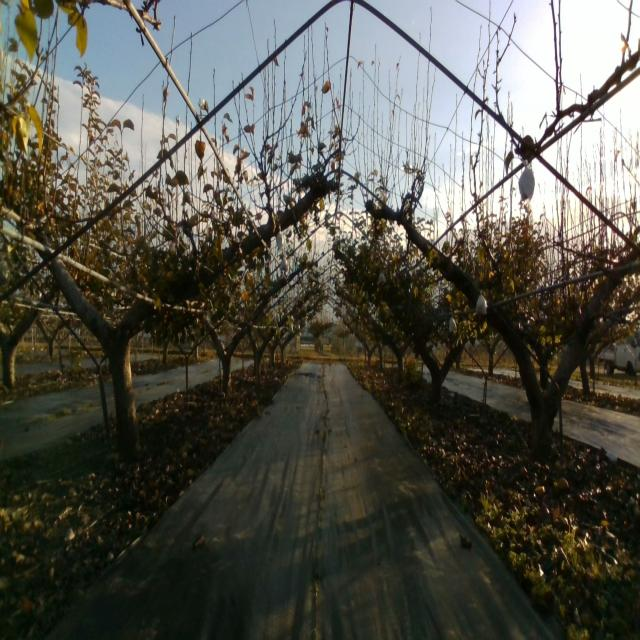pearbags: (518, 159, 535, 201), (473, 289, 488, 316)
